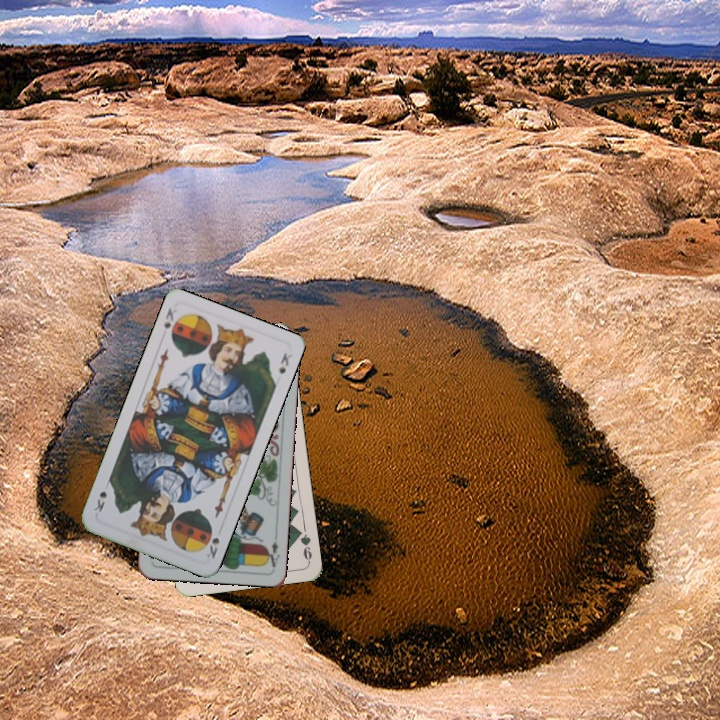EA: (262, 530, 282, 570)
G9: (293, 525, 314, 565)
SK: (160, 304, 182, 342), (202, 533, 222, 562)
